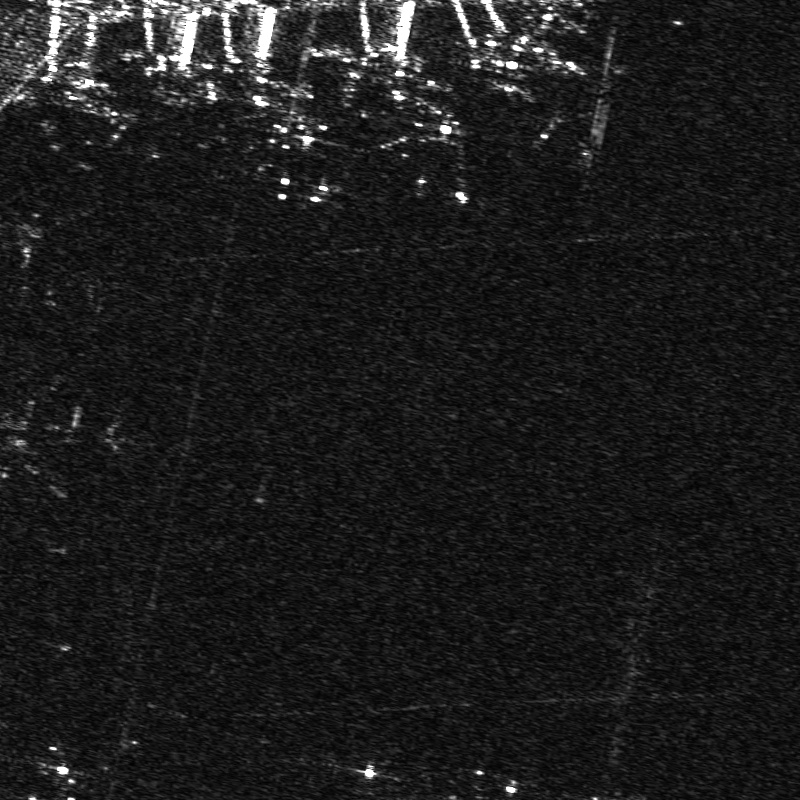A320/321: (246, 116, 352, 213), (520, 92, 609, 175)
Boeing737: (375, 107, 490, 202)
